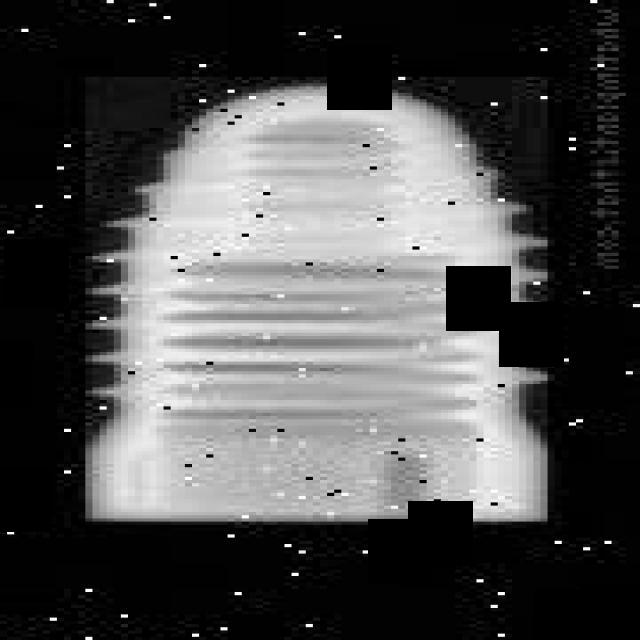Root canal obturation: (85, 77, 548, 522)
